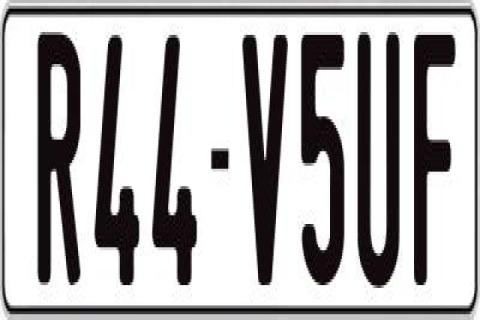0: (92, 32, 140, 294), (150, 32, 194, 294), (298, 35, 340, 288)
F: (414, 32, 454, 285)
R: (36, 29, 86, 294)
U: (358, 23, 406, 291)
V: (242, 32, 292, 300)
